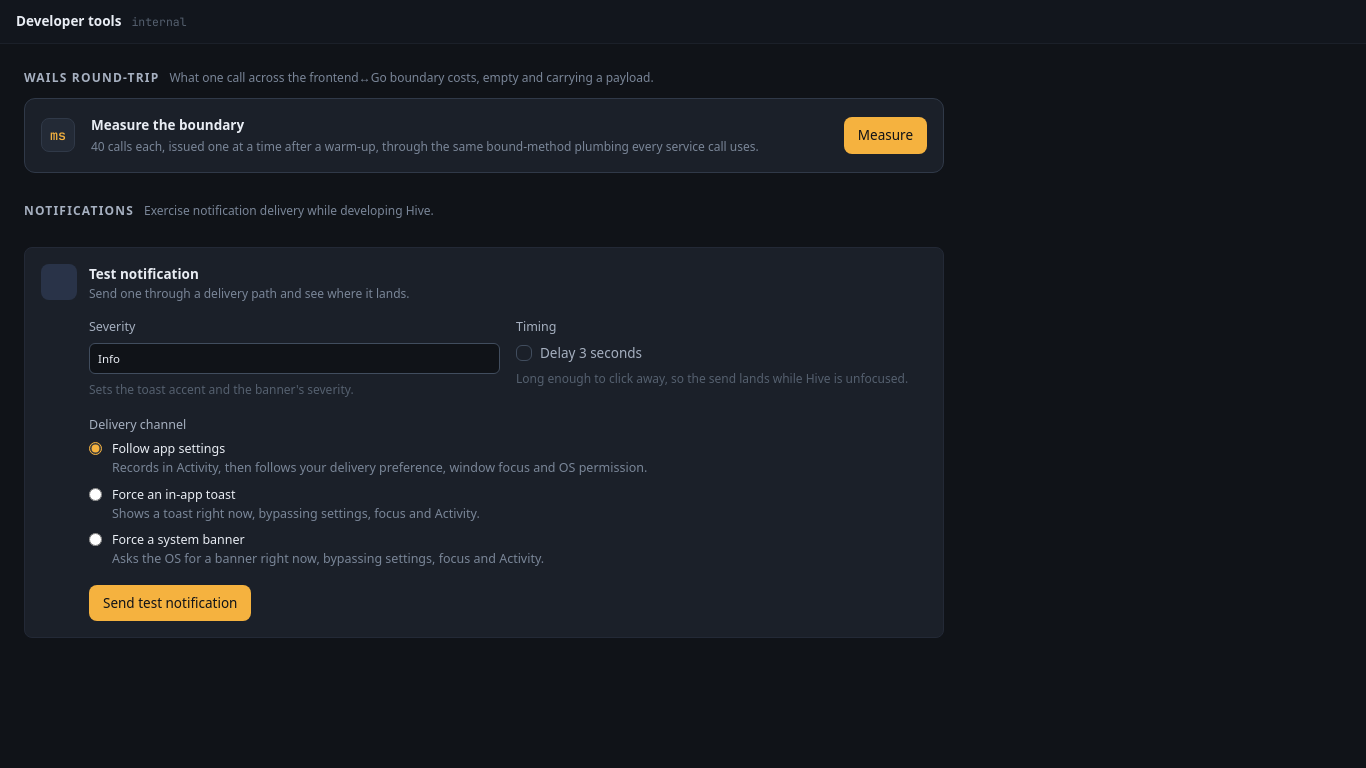
Test case: DevView notification test card › reports an auto notification that left the window as a system banner
This screenshot has width=1366, height=768.
Click the button with test id "dev-notification-send" at (170, 603), box [89,585,251,621]
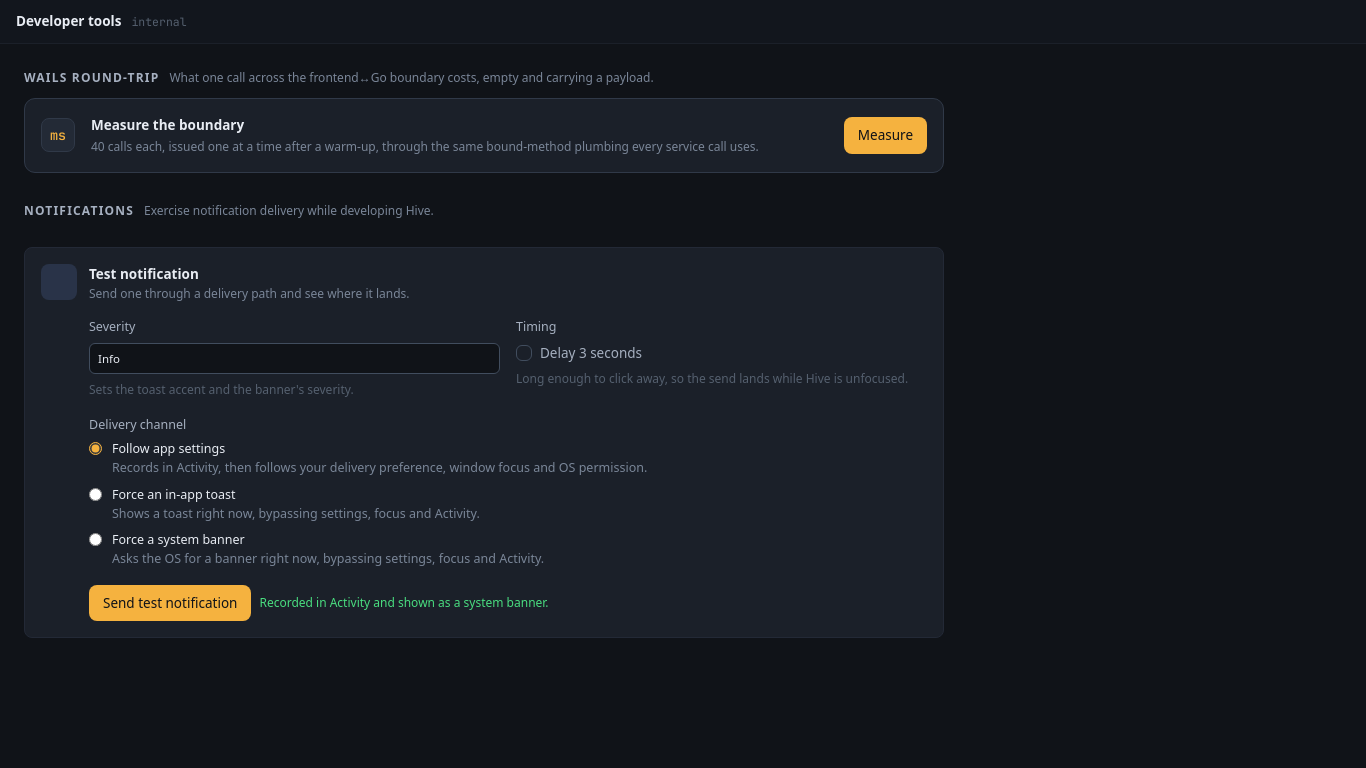
Check: the text with test id "dev-notification-result" reads "Recorded in Activity and shown as a system banner.", box [259,594,549,611]
